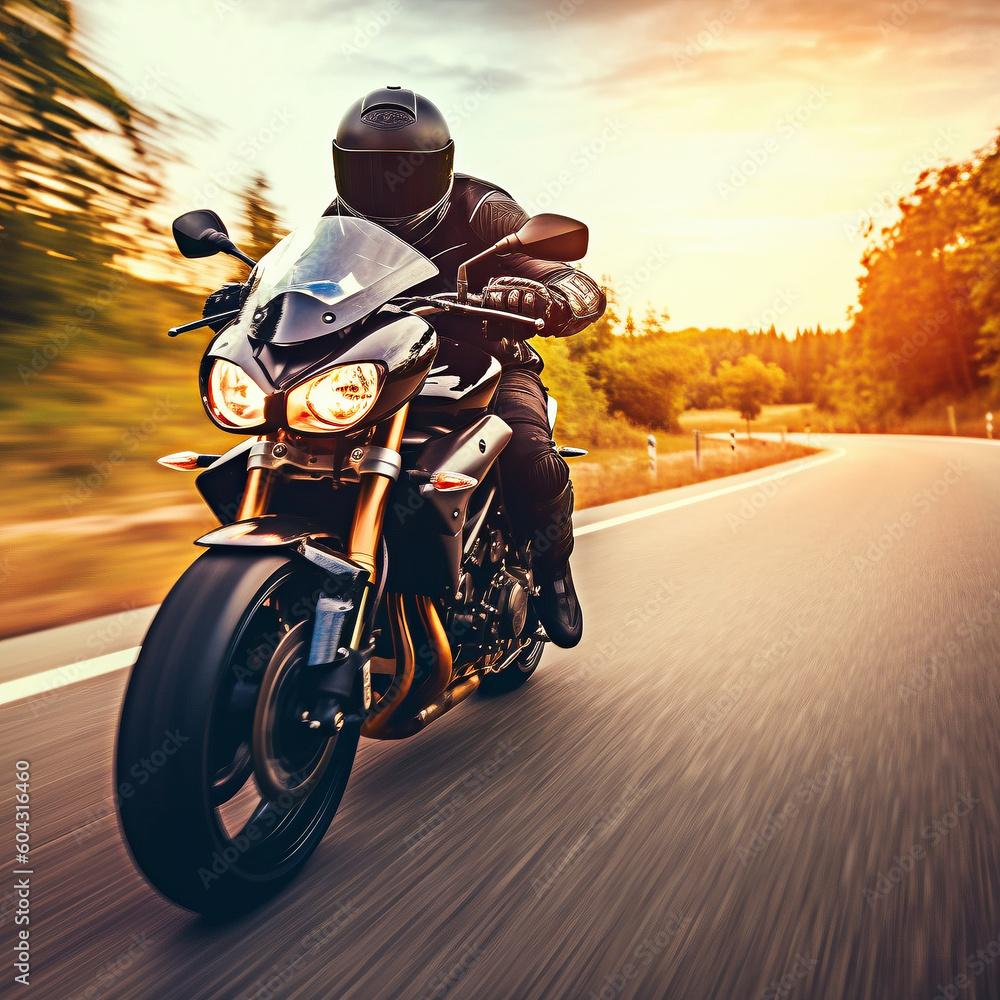helmet: (331, 84, 456, 256)
